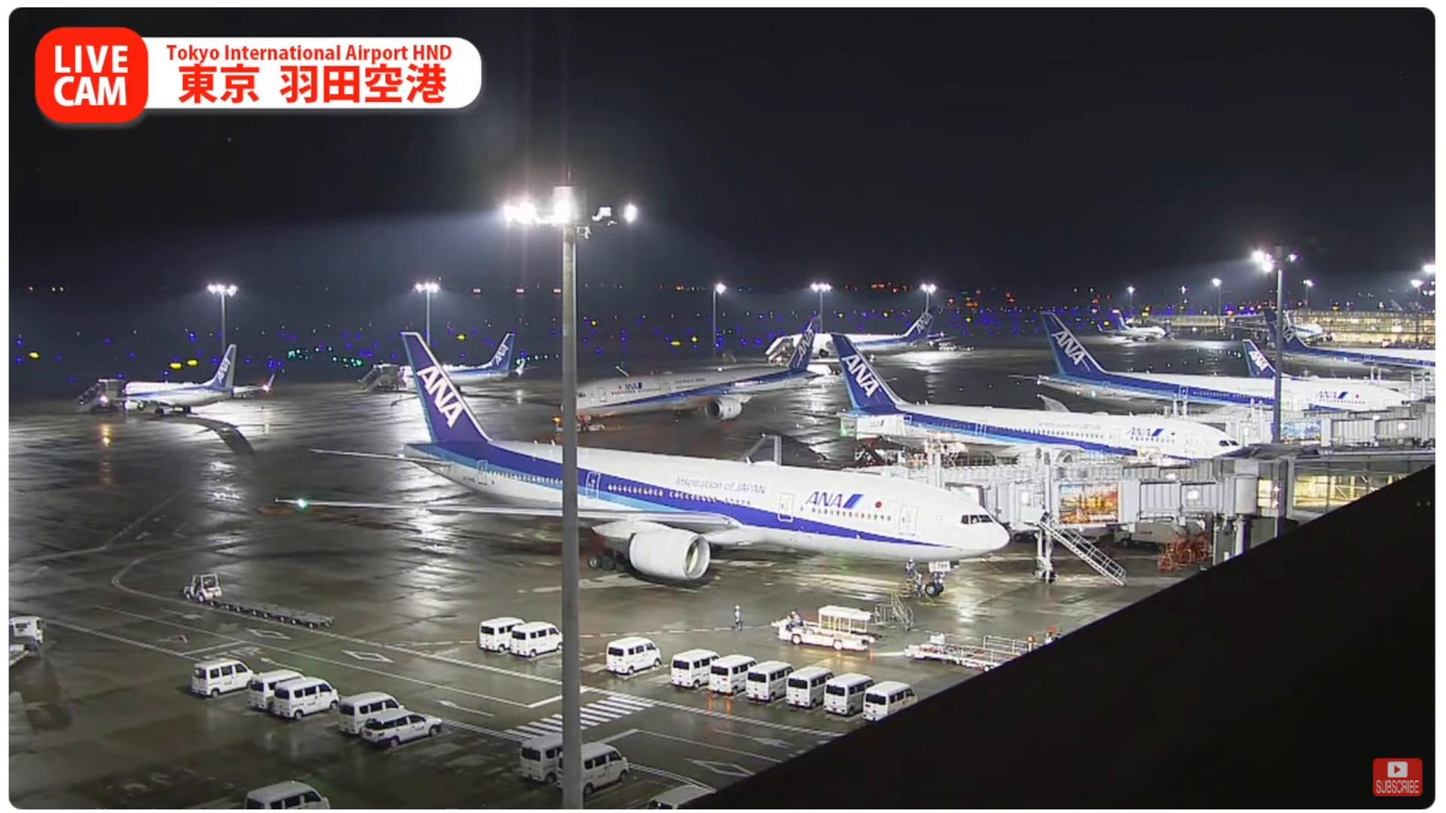Aerobridge: (904, 454, 1290, 516), (978, 469, 1279, 540)
Airplane: (268, 327, 1009, 583)
Dolly: (226, 593, 342, 639)
JCPL: (904, 639, 1017, 673), (937, 630, 1051, 655)
Skyloader: (768, 597, 895, 663)
Tractor: (172, 569, 228, 609)
Window: (1291, 459, 1429, 518)
